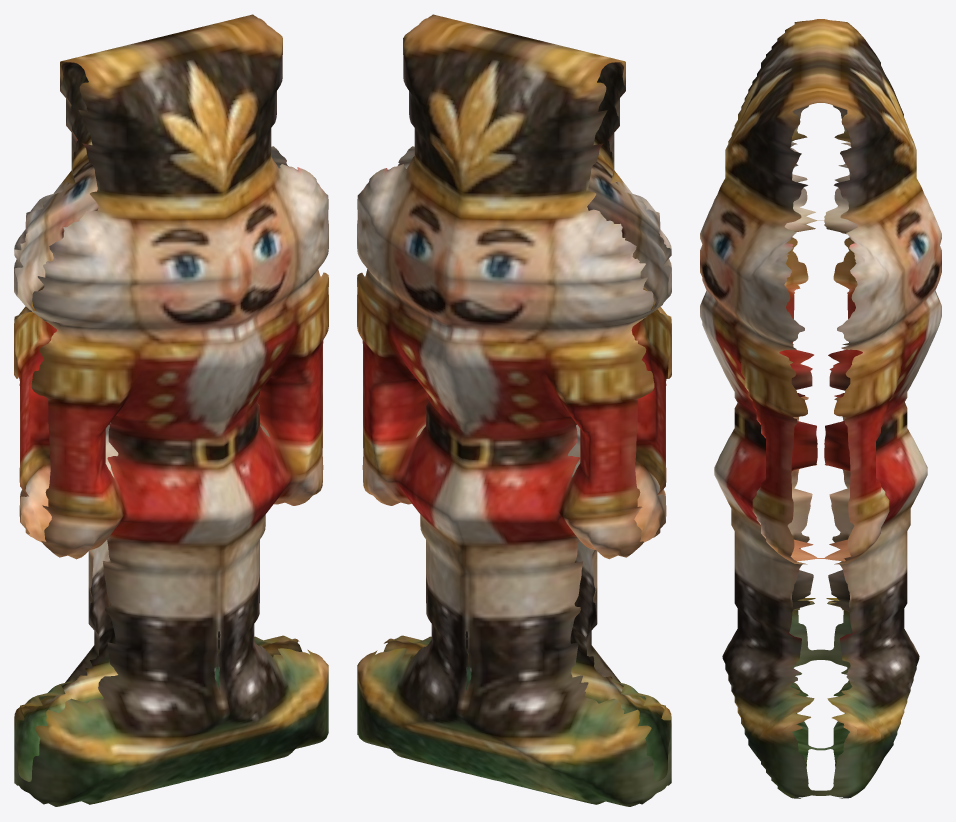
Rendered from Item_nutcracker.glb.
3 views of the same model, side by side, from view 1: azimuth 30°, elevation 25°; view 2: azimuth 150°, elevation 25°; view 3: azimuth 270°, elevation 25° (orthographic). The views are drawn at different scales.
Visible parts, largest first — view 1: Item_nutcracker carving; view 2: Item_nutcracker carving; view 3: Item_nutcracker carving.
Boxes of the visible parts, left/top/right/bottom form: Item_nutcracker carving: left=14, top=14, right=328, bottom=806; Item_nutcracker carving: left=357, top=14, right=671, bottom=806; Item_nutcracker carving: left=700, top=19, right=941, bottom=798.
Size of the model in its own units: 0.2751 by 0.6484 by 0.2061.
1 material, 1 textured.
